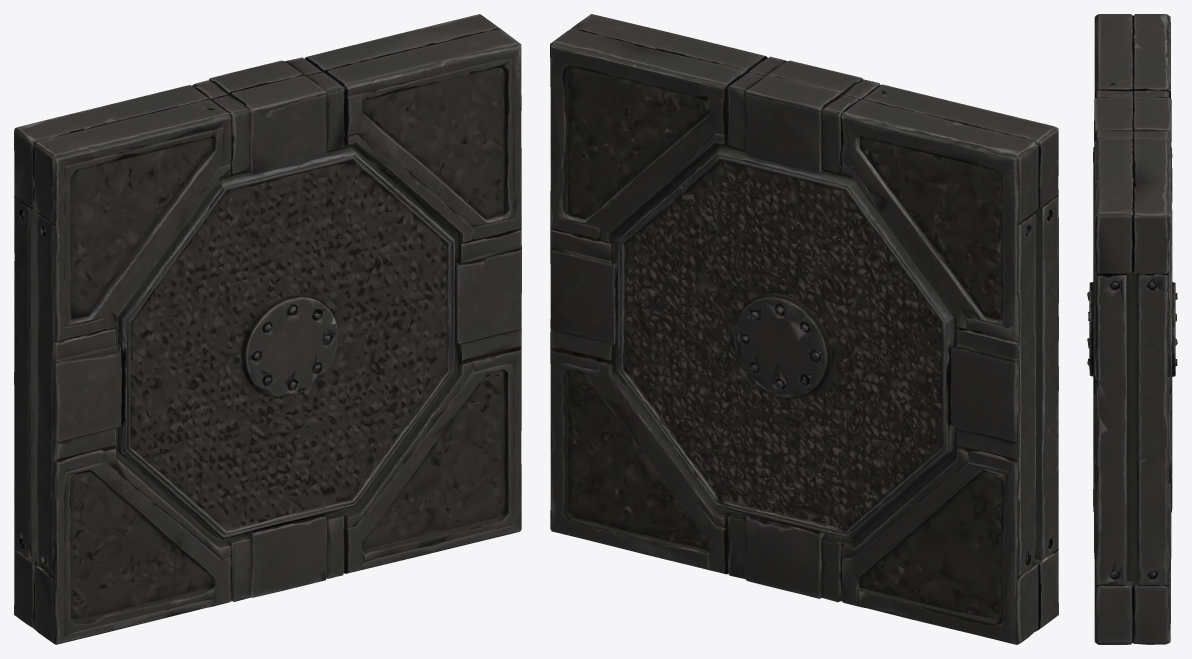
Rendered from metal_panel.glb.
The picture shows the model from 3 angles, left to right: view 1: azimuth 30°, elevation 25°; view 2: azimuth 150°, elevation 25°; view 3: azimuth 270°, elevation 25°; orthographic projection. The views are drawn at different scales.
Bounding box in the file's own units: 0.9777 × 0.9792 × 0.1854.
1 material, 1 textured.
